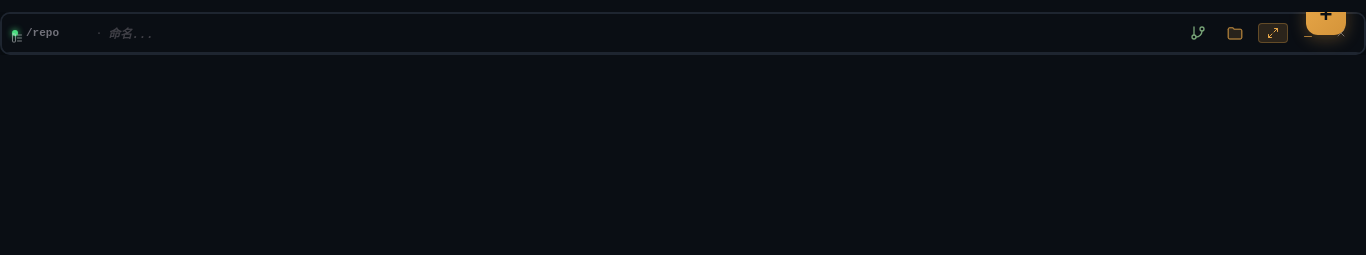
Test: M6 批A worktree 浮层 live › warning 横幅（大仓）
This screenshot has width=1366, height=255.
Click the button with class "tile-worktree-btn" at (1198, 33), box [1184, 21, 1212, 45]
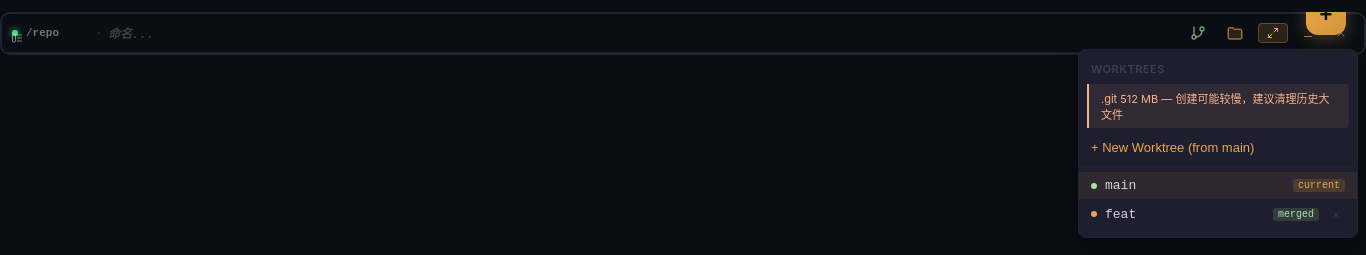
Expected: the text with class "worktree-popover__warning" shows "512 MB", [1087, 84, 1349, 128]
